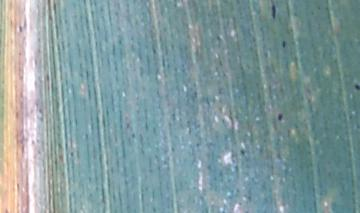tarspot: (269, 3, 279, 23), (276, 112, 285, 123), (280, 38, 288, 50), (352, 83, 360, 92), (240, 148, 247, 156)
